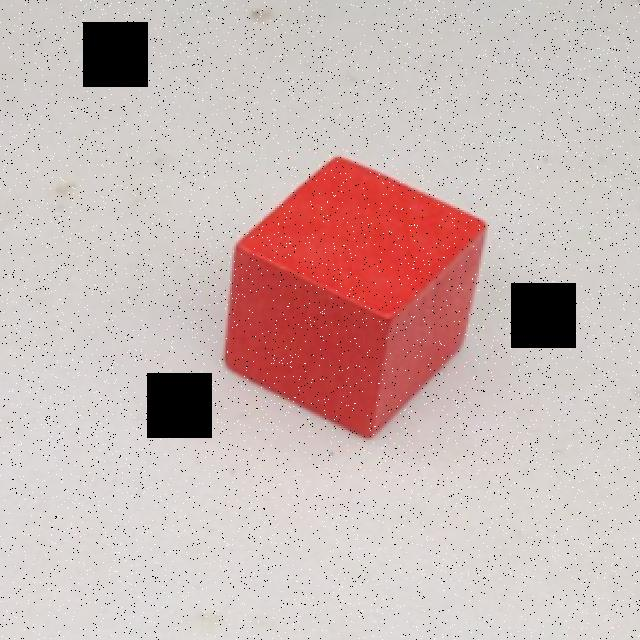red cube: (219, 154, 490, 443)
